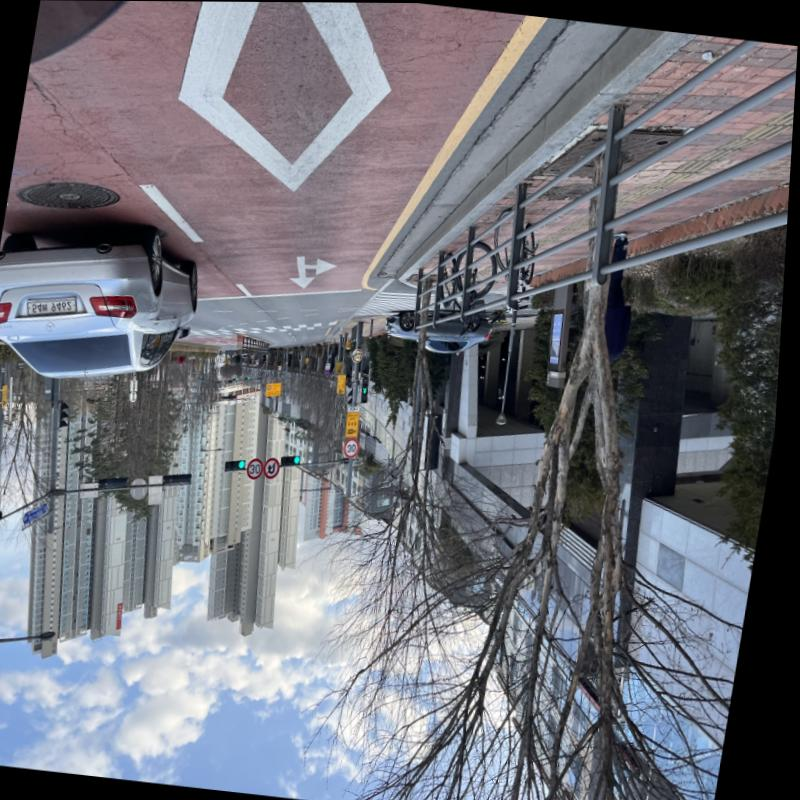green: (243, 459, 250, 468), (299, 455, 305, 463)
